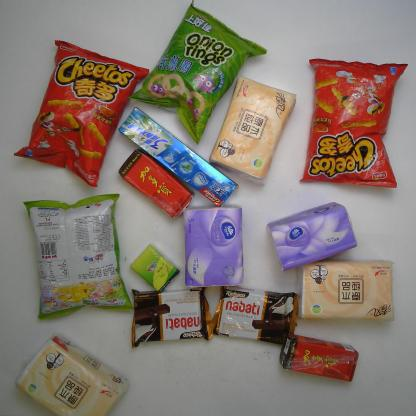Dessert: (212, 285, 300, 345), (129, 288, 214, 348)
Drink: (114, 154, 203, 218), (280, 330, 361, 384)
Personal Hygiene: (120, 106, 242, 209)
Puffed Food: (127, 1, 268, 141), (19, 41, 142, 186), (299, 58, 408, 191), (22, 193, 133, 322)
Tissue: (202, 72, 298, 182), (14, 332, 130, 414), (266, 201, 358, 271), (301, 259, 395, 324), (183, 209, 248, 288), (128, 243, 184, 292)
